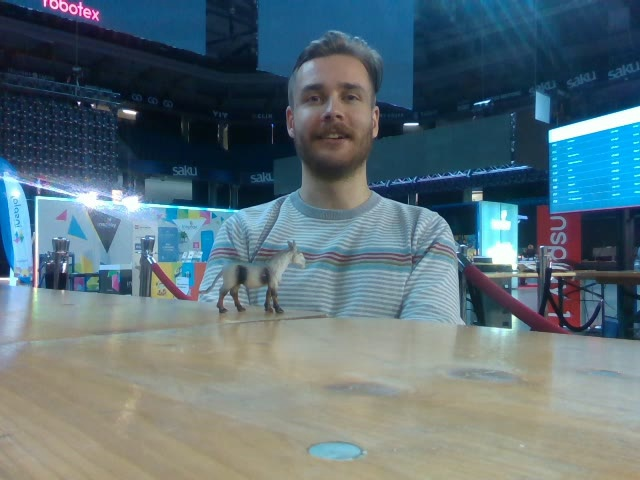toy: (195, 239, 307, 315)
